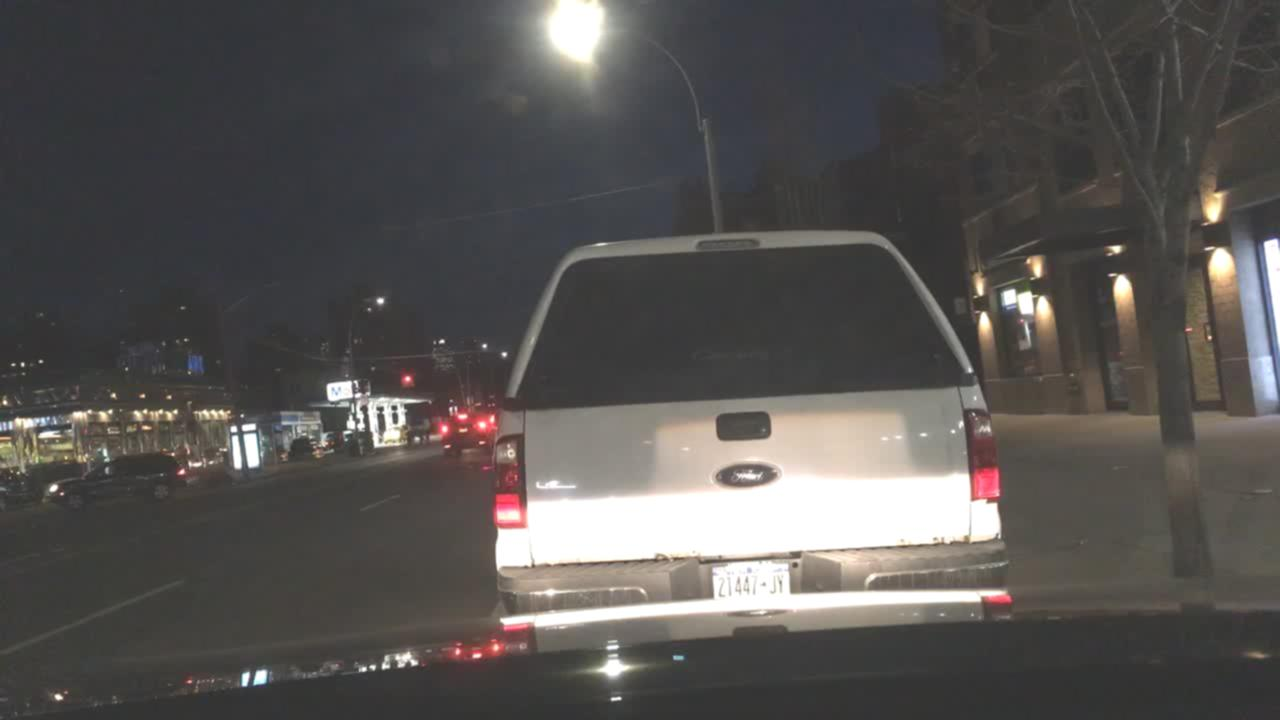ford: (711, 456, 802, 495)
